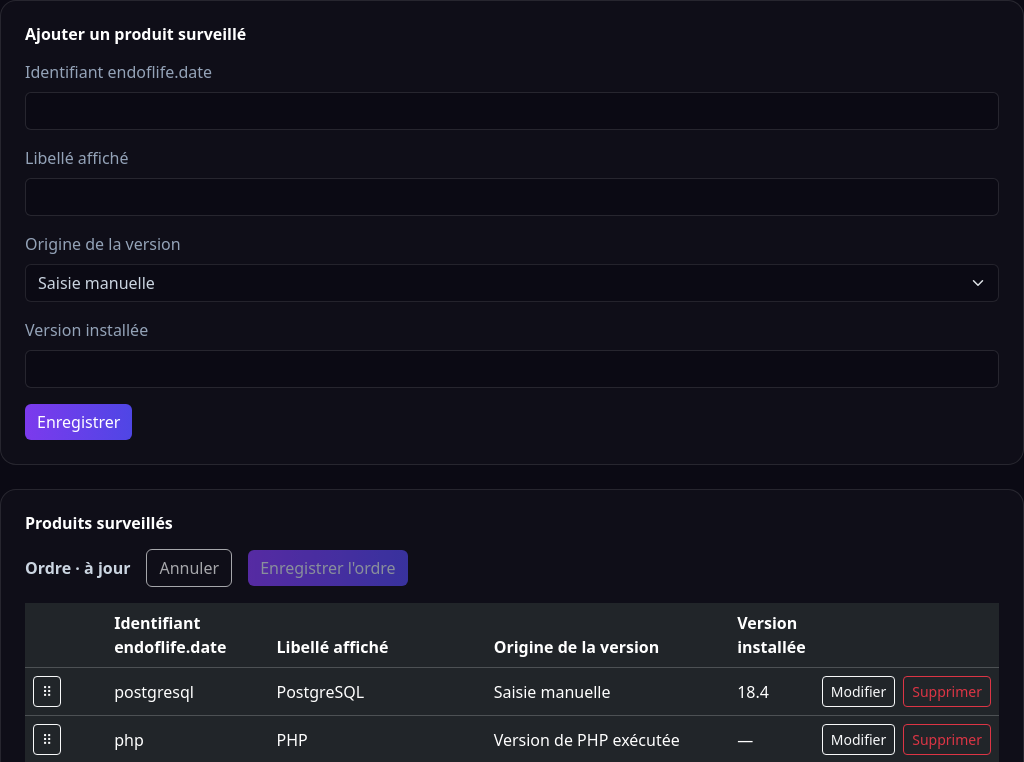
Test: AdminWatchPage › affiche un message dédié en cas de conflit
Type "postgresql" into the field with id "admin-watch-slug" at {"x": 512, "y": 111}, box [25, 92, 999, 130]
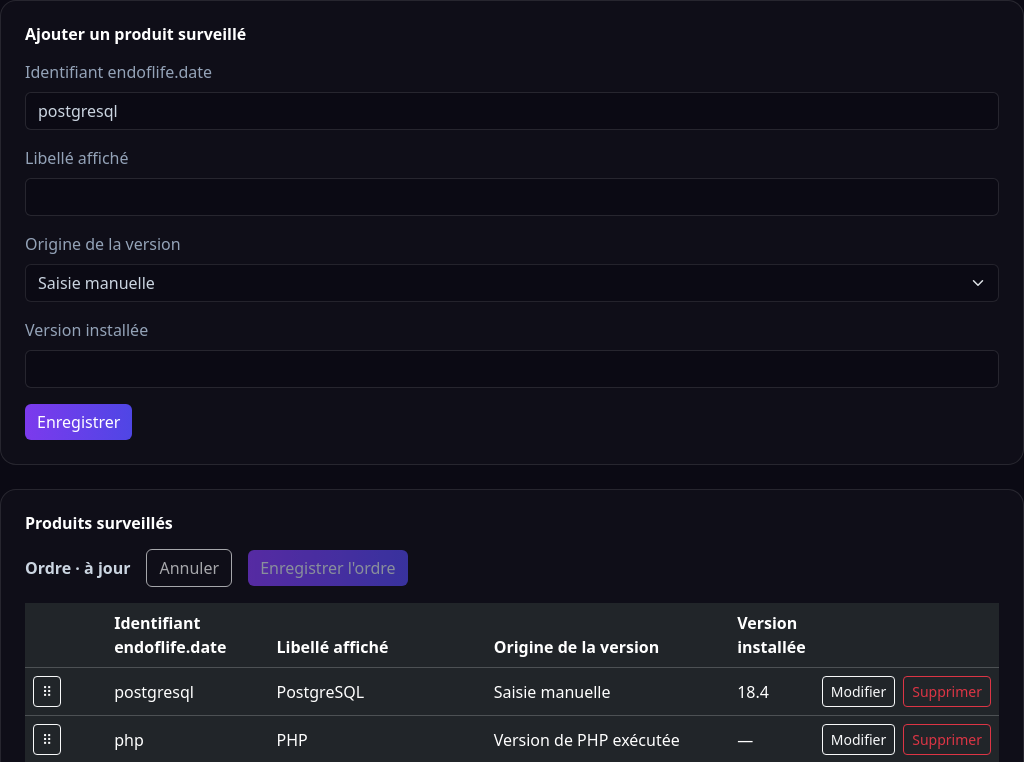
Type "Doublon" into the field with id "admin-watch-label" at {"x": 512, "y": 197}, box [25, 178, 999, 216]
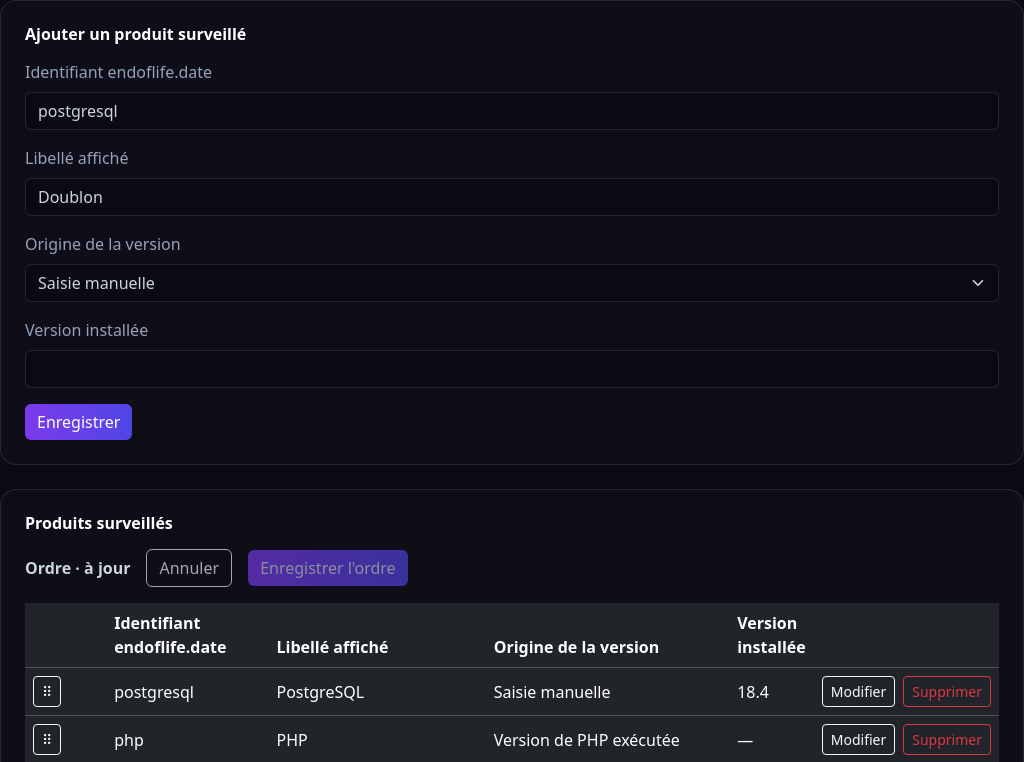
Type "18.4" into the field with id "admin-watch-version" at {"x": 512, "y": 369}, box [25, 350, 999, 388]
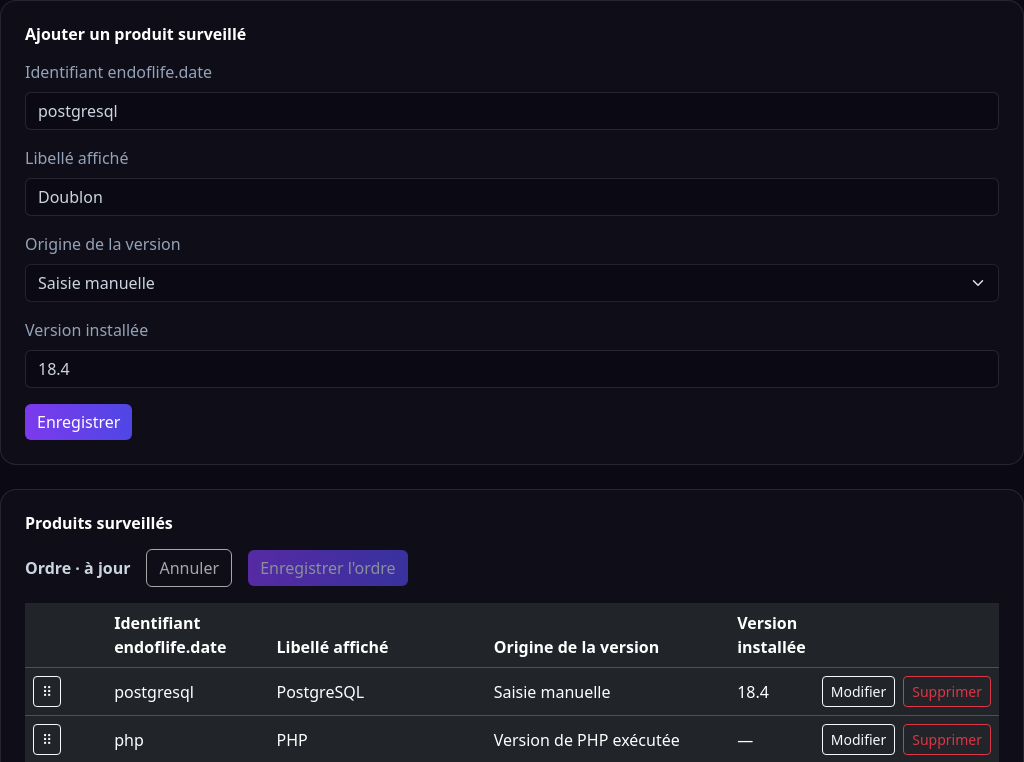
Submit the form, box [25, 60, 999, 440]
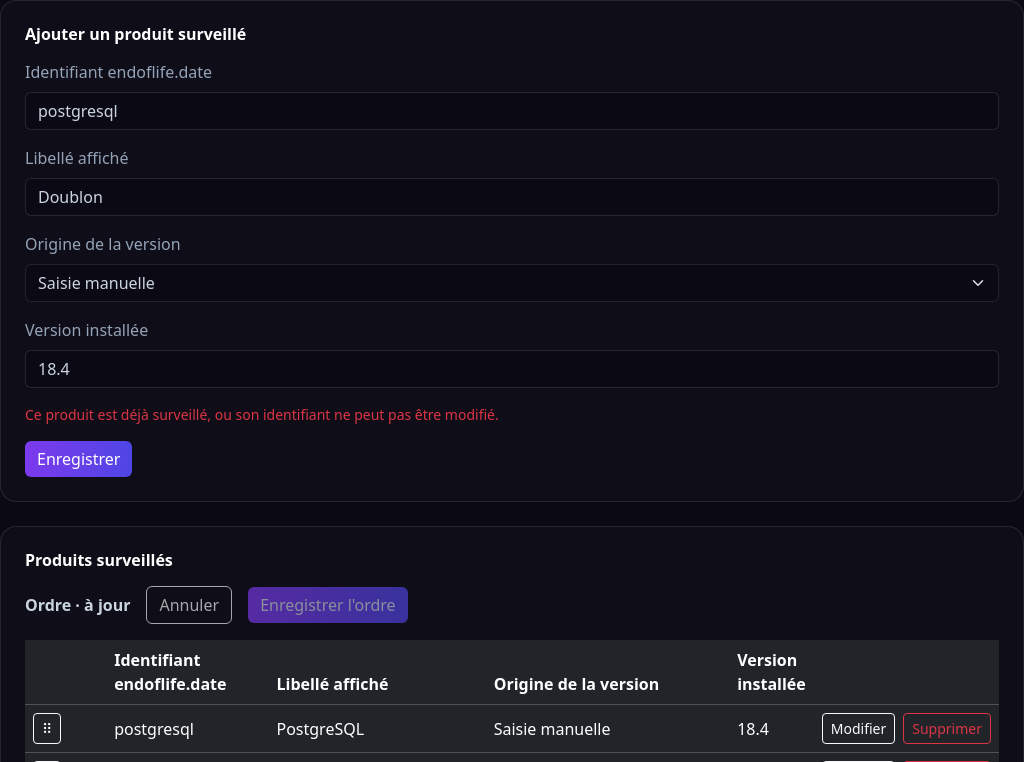
Result: the text "déjà surveillé" is shown at [25, 405, 499, 424]
